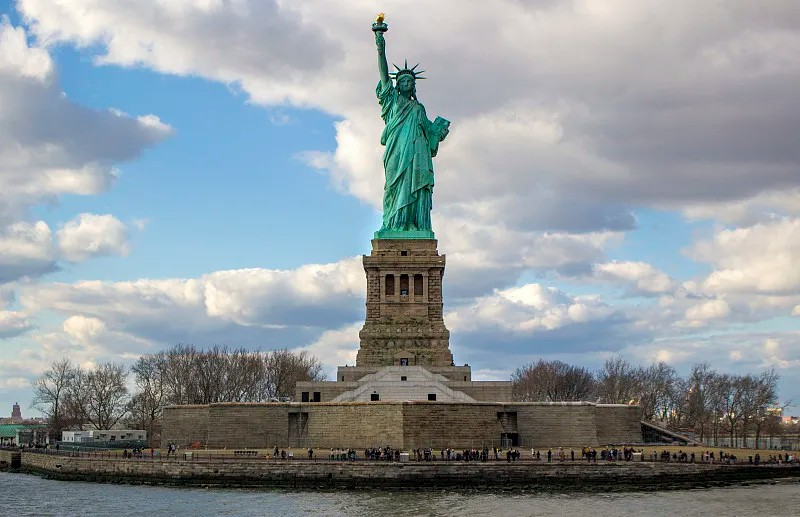SL: (356, 13, 454, 366)
